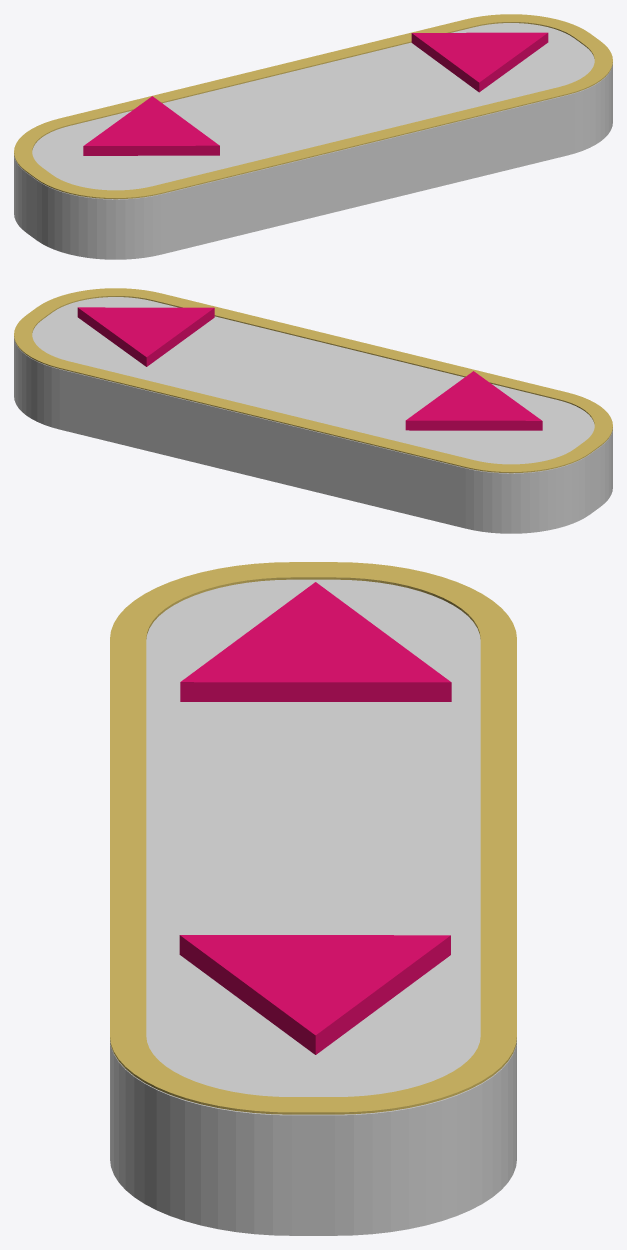
The model's file is Buton.fbx.
The picture shows the model from 3 angles, top to bottom: view 1: azimuth 30°, elevation 25°; view 2: azimuth 150°, elevation 25°; view 3: azimuth 270°, elevation 25°; orthographic projection. The views are drawn at different scales.
Visible parts, largest first — view 1: Cube.002, Cube.004, Plane.001, Plane; view 2: Cube.002, Cube.004, Plane.001, Plane; view 3: Cube.002, Cube.004, Plane.001, Plane.
Boxes of the visible parts, x1,y1,x2,y2 form: Cube.002: [14, 23, 612, 259]; Cube.004: [14, 14, 612, 199]; Plane.001: [411, 32, 548, 92]; Plane: [83, 96, 219, 155]; Cube.002: [14, 297, 612, 533]; Cube.004: [14, 288, 612, 473]; Plane.001: [77, 307, 214, 366]; Plane: [405, 371, 542, 430]; Cube.002: [110, 579, 516, 1235]; Cube.004: [110, 562, 516, 1114]; Plane.001: [179, 935, 450, 1054]; Plane: [180, 582, 451, 701].
Bounding box in the file's own units: 104 × 13.64 × 32.51.
